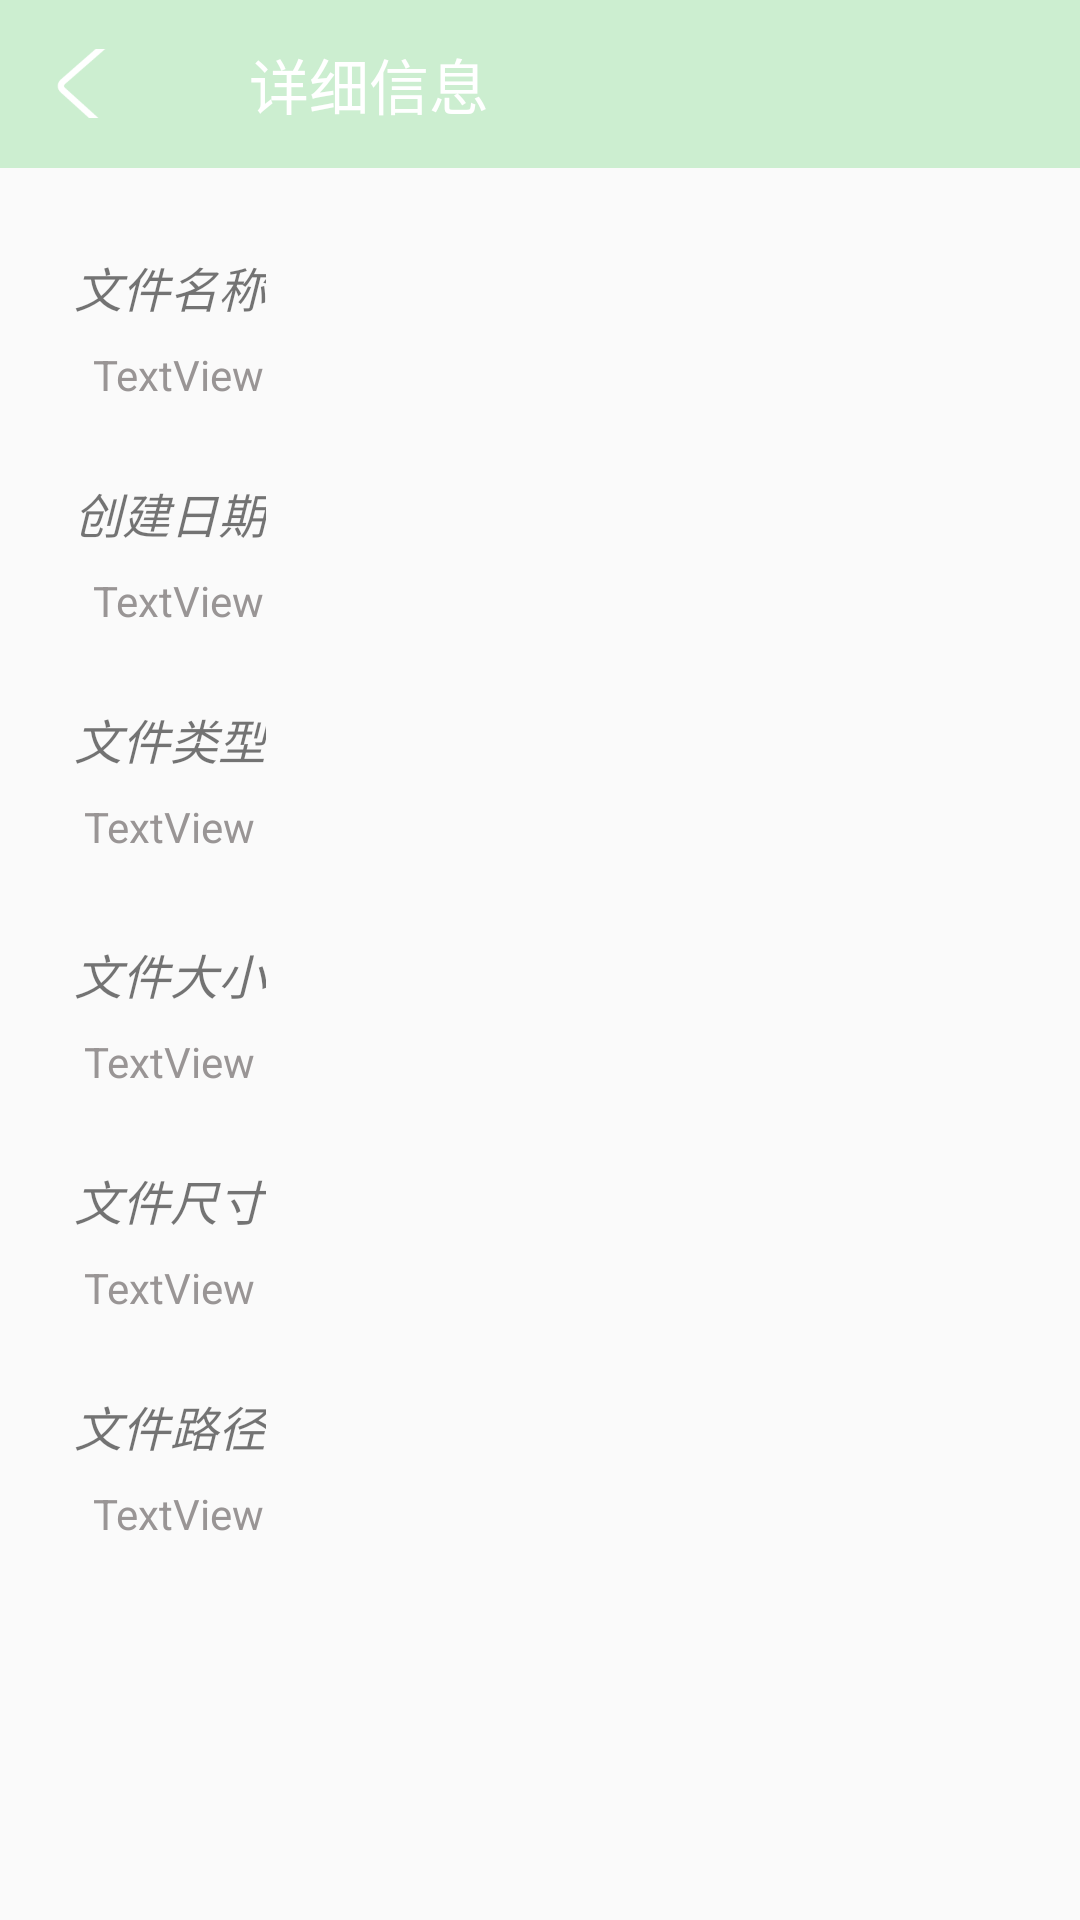

Locate icon controls on the screen. Image size 1080×1920, boxes as (x1, y1, x2, y2).
back: (58, 49, 105, 118)
